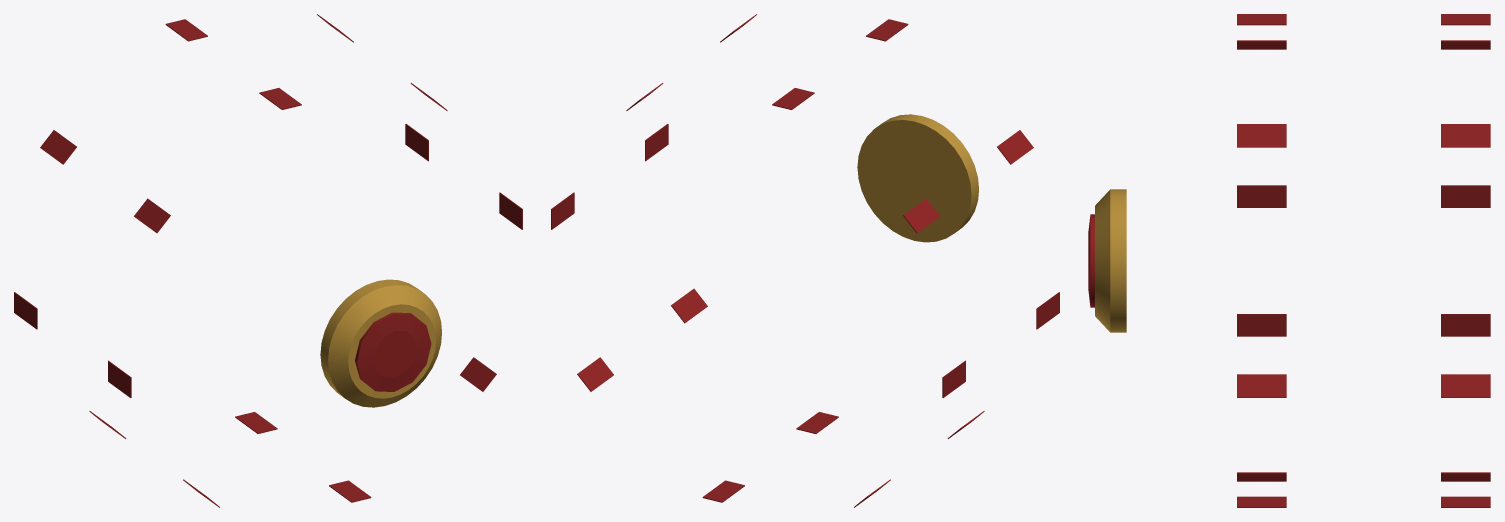
File: h80_seal.obj
3 renders of one model, left to right at view 1: azimuth 30°, elevation 25°; view 2: azimuth 150°, elevation 25°; view 3: azimuth 270°, elevation 25°, orthographic. The views are drawn at different scales.
Visible parts, largest first — view 1: h80_seal; view 2: h80_seal; view 3: h80_seal.
Part boxes in pixels (x1,y1,x2,y2): h80_seal: (14,14,522,507); h80_seal: (551,14,1059,507); h80_seal: (1088,14,1490,507).
Size of the model in its own units: 4.5 by 4.5 by 3.68.
